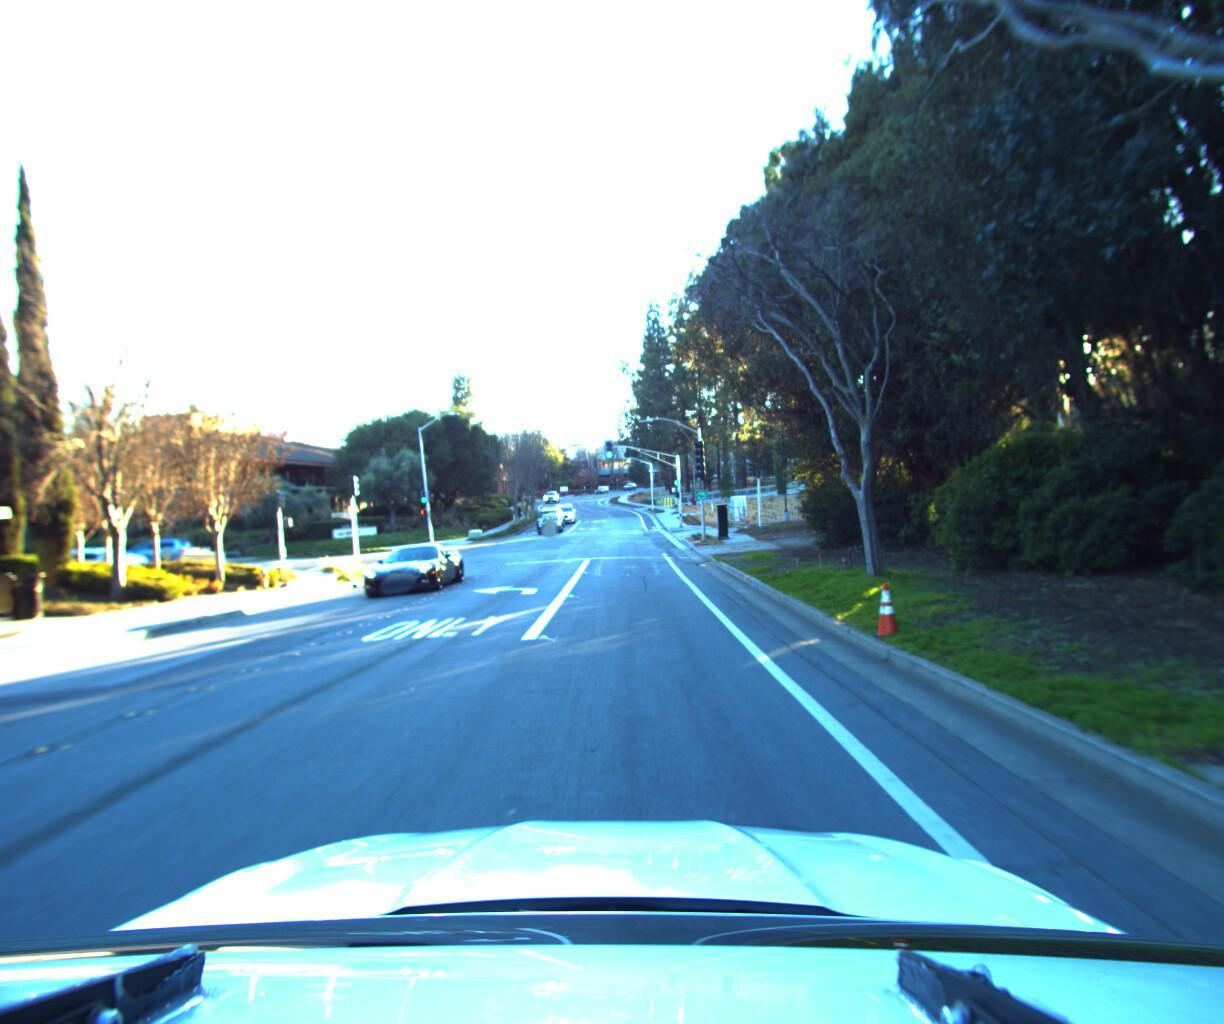car: (354, 535, 466, 601), (49, 541, 161, 588), (104, 535, 201, 573), (536, 509, 567, 534), (555, 502, 580, 521)
